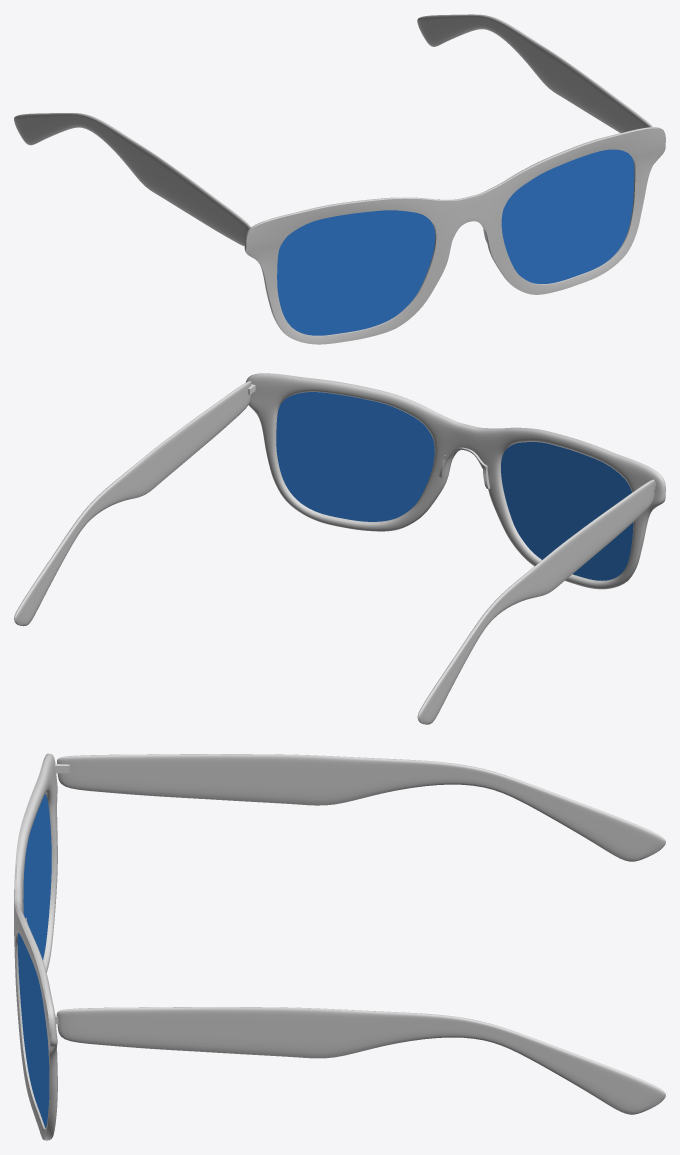
File: oculos.fbx
3 views of the same model, one above another, from view 1: azimuth 30°, elevation 25°; view 2: azimuth 150°, elevation 25°; view 3: azimuth 270°, elevation 25° (orthographic). The views are drawn at different scales.
Visible parts, largest first — view 1: Plane.001; view 2: Plane.001; view 3: Plane.001.
Boxes of the visible parts, bbox=[...] form: Plane.001: bbox=[14, 14, 665, 344]; Plane.001: bbox=[14, 373, 665, 724]; Plane.001: bbox=[14, 753, 665, 1140].
Size of the model in its own units: 247 by 79.26 by 259.
